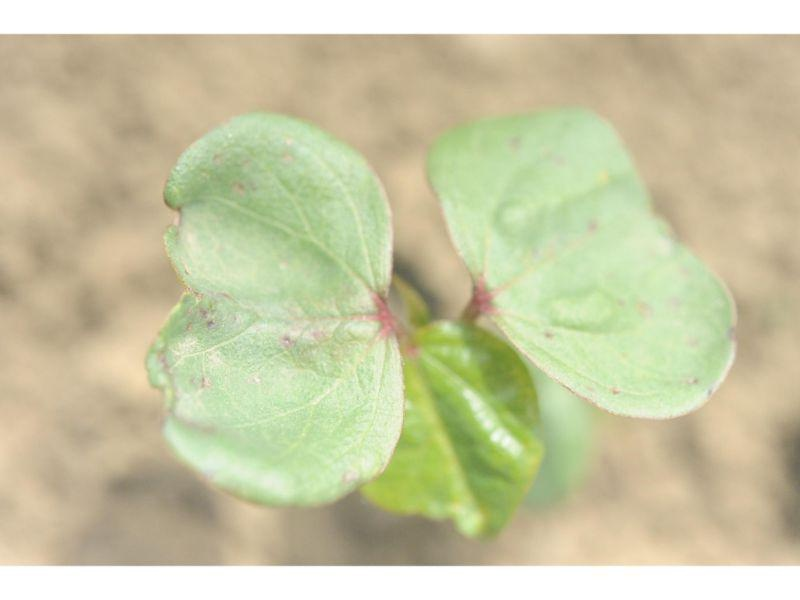cotton: (145, 108, 740, 543)
